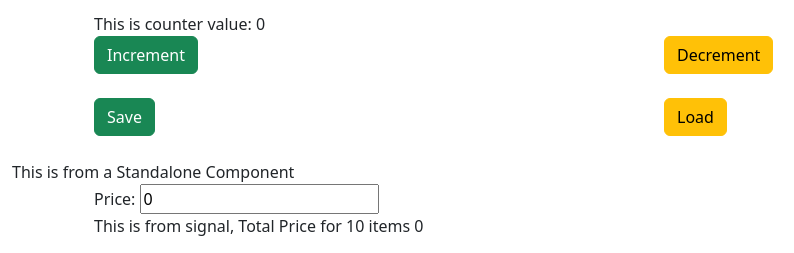
Test: My e2e Test for Angular Sample Second › Test - Store Counter - Decrement
// decrement by 2
Click the button with class "btn-warning" showing "Decrement": (719, 55) left=664, top=36, right=773, bottom=74
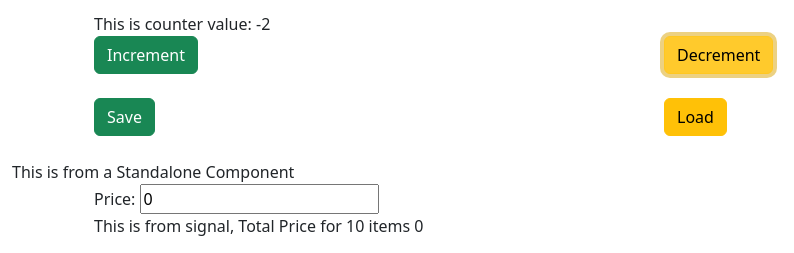
expect the text "This is counter value: -2" is shown: met, box left=94, top=13, right=270, bottom=35
